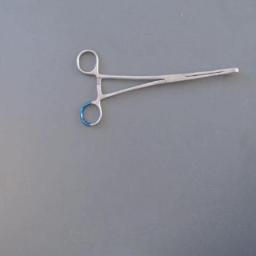Sponge Forceps: (74, 46, 242, 128)
